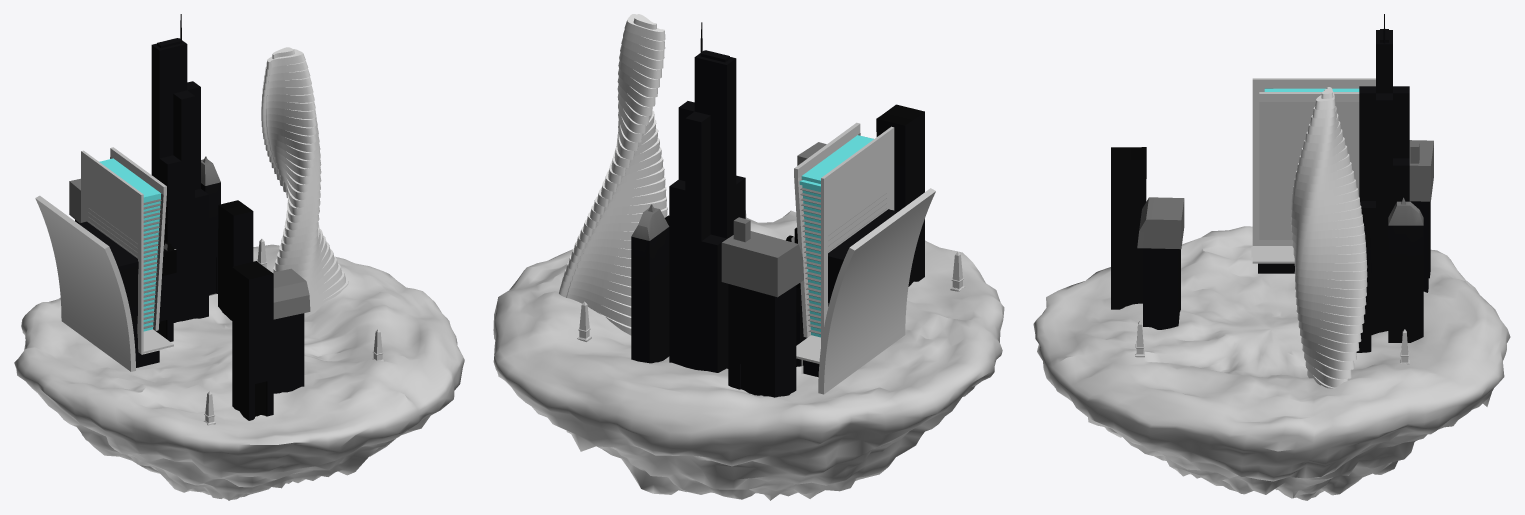
The model's file is Plataforma_Edificios.fbx.
3 renders of one model, left to right at view 1: azimuth 30°, elevation 25°; view 2: azimuth 150°, elevation 25°; view 3: azimuth 270°, elevation 25°, orthographic. The views are drawn at different scales.
Visible parts, largest first — view 1: Plataforma rocosa C, Rascacielos 2, Rascacielos 1, Pared Izq, Edificio 003, Edificio 009, Edificio 004, Edificio Izq, Edificio 005, Edificio 1; view 2: Plataforma rocosa C, Rascacielos 2, Rascacielos 1, Edificio 002, Pared Izq, Edificio 005, Edificio 003, Edificio Izq, Line030, Line006, Line028, Line008 (+6 smaller); view 3: Plataforma rocosa C, Rascacielos 1, Rascacielos 2, Edificio 009, Edificio 003, Edificio 005, Edificio 002, Edificio 004, Line028, Line038, Line034, Line030 (+16 smaller).
Part boxes in pixels (left/top/right/bottom): Plataforma rocosa C: left=14, top=244, right=464, bottom=500; Rascacielos 2: left=151, top=14, right=208, bottom=322; Rascacielos 1: left=81, top=147, right=173, bottom=354; Pared Izq: left=35, top=195, right=135, bottom=371; Edificio 003: left=232, top=261, right=273, bottom=420; Edificio 009: left=272, top=268, right=310, bottom=393; Edificio 004: left=218, top=200, right=253, bottom=320; Edificio Izq: left=78, top=221, right=159, bottom=367; Edificio 005: left=201, top=156, right=220, bottom=295; Edificio 1: left=156, top=241, right=176, bottom=341; Plataforma rocosa C: left=493, top=210, right=1004, bottom=500; Rascacielos 2: left=669, top=22, right=745, bottom=372; Rascacielos 1: left=794, top=122, right=894, bottom=378; Edificio 002: left=721, top=217, right=803, bottom=397; Pared Izq: left=818, top=188, right=935, bottom=394; Edificio 005: left=631, top=204, right=669, bottom=363; Edificio 003: left=876, top=104, right=924, bottom=286; Edificio Izq: left=803, top=209, right=898, bottom=377; Line030: left=593, top=186, right=666, bottom=214; Line006: left=559, top=286, right=631, bottom=316; Line028: left=590, top=196, right=666, bottom=221; Line008: left=561, top=276, right=631, bottom=305; Plataforma rocosa C: left=1033, top=226, right=1510, bottom=500; Rascacielos 1: left=1251, top=78, right=1375, bottom=263; Rascacielos 2: left=1359, top=14, right=1409, bottom=335; Edificio 009: left=1137, top=197, right=1184, bottom=329; Edificio 003: left=1111, top=147, right=1146, bottom=309; Edificio 005: left=1388, top=197, right=1423, bottom=342; Edificio 002: left=1409, top=140, right=1433, bottom=292; Edificio 004: left=1356, top=234, right=1371, bottom=352; Line028: left=1294, top=267, right=1367, bottom=280; Line038: left=1291, top=223, right=1364, bottom=239; Line034: left=1292, top=241, right=1366, bottom=254; Line030: left=1294, top=258, right=1367, bottom=271.
Size of the model in its own units: 11101 by 11750 by 11098.
